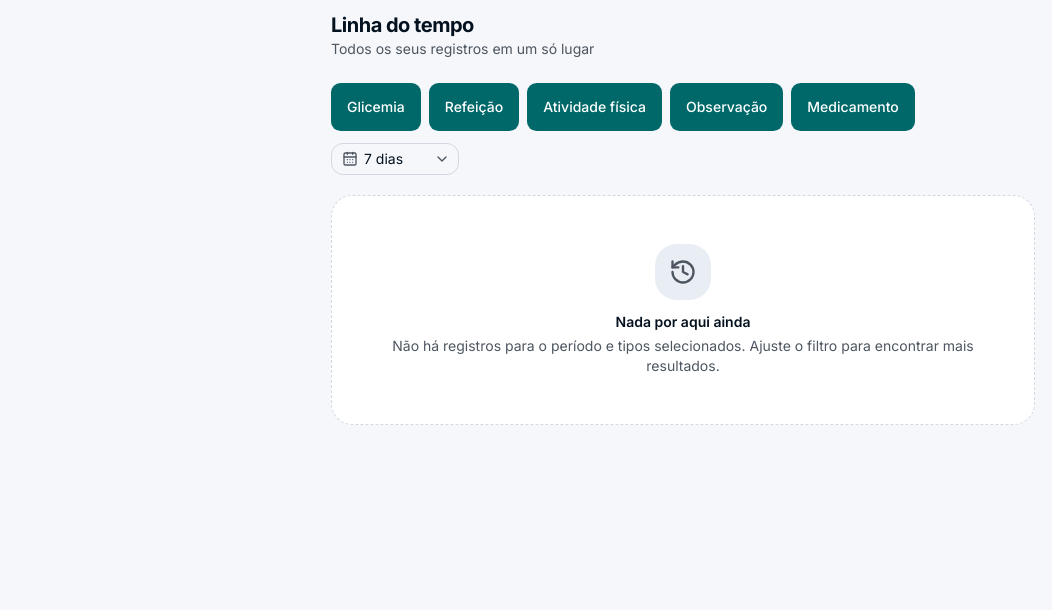
Test: TimelineWidget › drops the filter guidance once the period covers every record
This screenshot has width=1052, height=610.
Click the dropdown named "Filtrar por período".
click(395, 159)  # box [331,143,459,175]
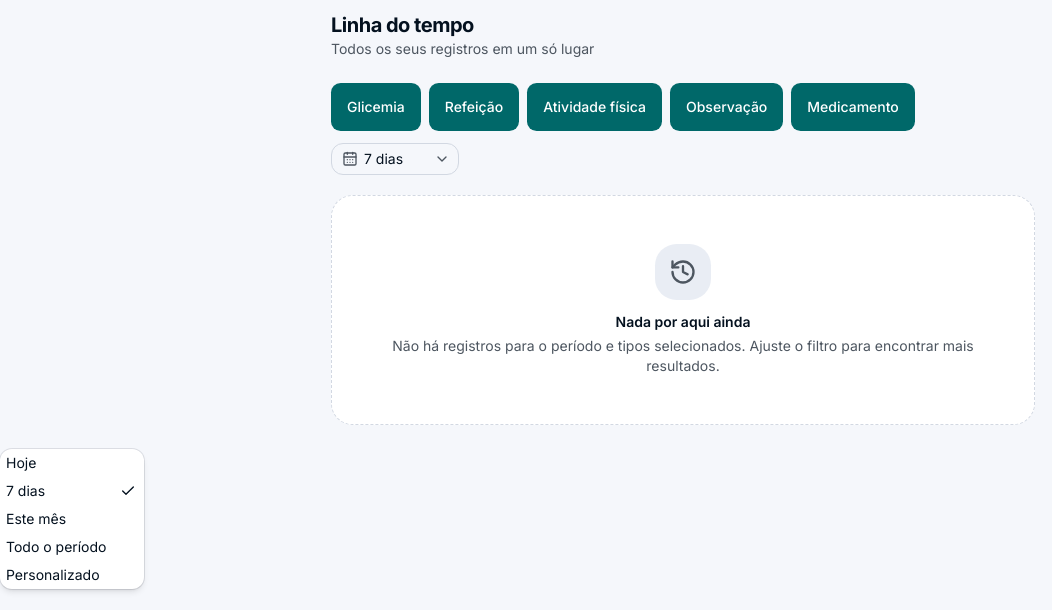
Click the option "Todo o período".
click(56, 546)  # box [6,538,106,555]
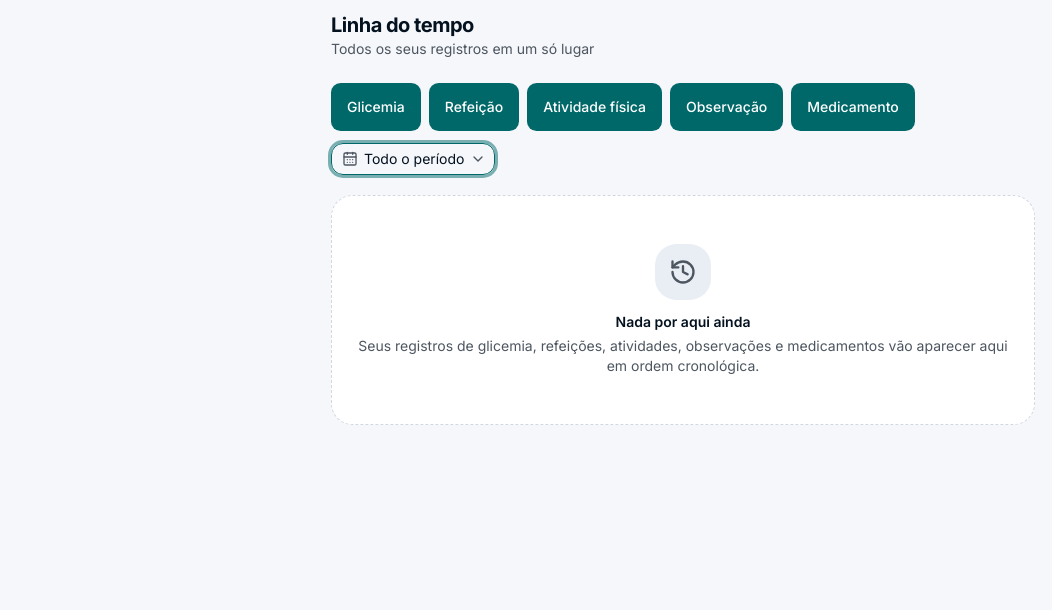
expect the text "Nada por aqui ainda" is shown: met, box [616,313,750,330]
expect the text "Seus registros de glicemia, refeições, atividades, observações e medicamentos vão aparecer aqui em ordem cronológica." is shown: met, box [358,337,1008,374]
